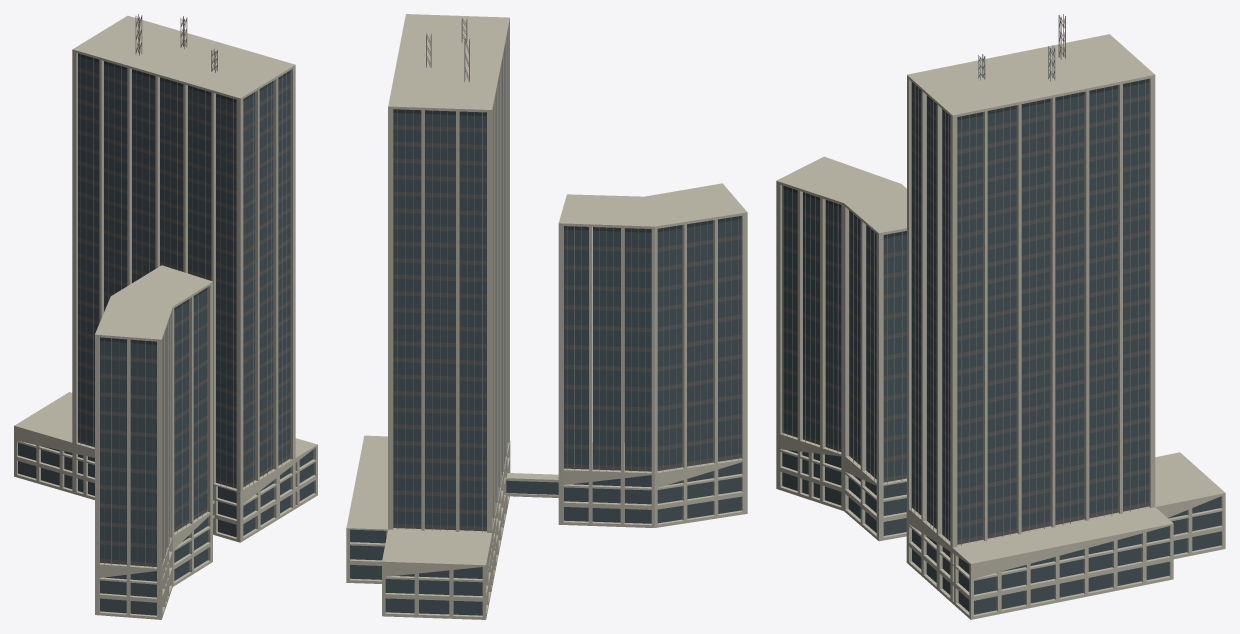
The model's file is athens-tower-near.glb.
3 views of the same model, side by side, from view 1: azimuth 30°, elevation 25°; view 2: azimuth 150°, elevation 25°; view 3: azimuth 270°, elevation 25° (orthographic). The views are drawn at different scales.
Visible parts, largest first — view 1: athens-tower-0-glass, athens-tower-0-stone, athens-tower-0-spandrel, athens-tower-0-metal, athens-tower-0-shadow; view 2: athens-tower-0-glass, athens-tower-0-stone, athens-tower-0-spandrel, athens-tower-0-metal, athens-tower-0-shadow; view 3: athens-tower-0-glass, athens-tower-0-stone, athens-tower-0-spandrel, athens-tower-0-metal, athens-tower-0-shadow.
Part boxes in pixels (x1,y1,x2,y2): athens-tower-0-glass: (18, 56, 314, 615); athens-tower-0-stone: (14, 15, 317, 619); athens-tower-0-spandrel: (78, 68, 290, 566); athens-tower-0-metal: (80, 14, 290, 567); athens-tower-0-shadow: (78, 53, 290, 344); athens-tower-0-glass: (350, 113, 741, 615); athens-tower-0-stone: (346, 14, 747, 619); athens-tower-0-spandrel: (393, 125, 741, 531); athens-tower-0-metal: (397, 18, 738, 532); athens-tower-0-shadow: (393, 109, 741, 232); athens-tower-0-glass: (782, 82, 1221, 614); athens-tower-0-stone: (776, 34, 1225, 619); athens-tower-0-spandrel: (782, 95, 1149, 544); athens-tower-0-metal: (782, 14, 1145, 545); athens-tower-0-shadow: (782, 79, 1149, 238).
Size of the model in its own units: 70.29 by 112 by 85.96.
